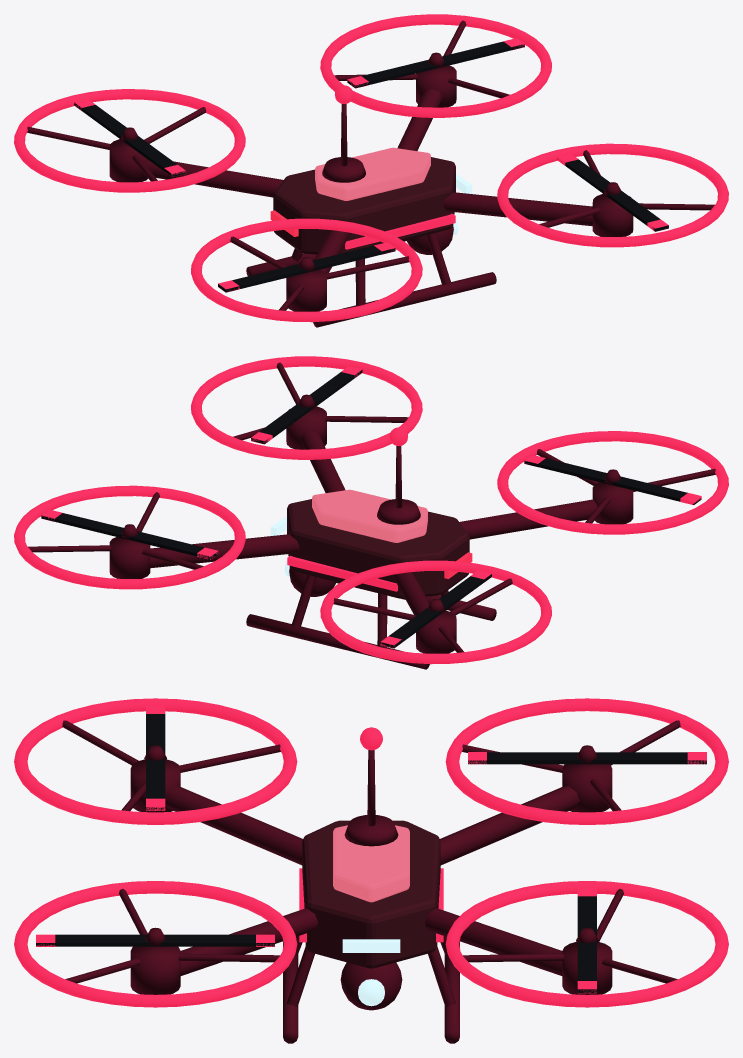
File: legacy_drone.glb
3 renders of one model, top to bottom at view 1: azimuth 30°, elevation 25°; view 2: azimuth 150°, elevation 25°; view 3: azimuth 270°, elevation 25°, orthographic. The views are drawn at different scales.
Parts seen in each view (by area): view 1: PropGuards, Arms, Hull, Canopy, Skids, Blades_RR, Blades_FL, Blades_RL, Blades_FR, Antenna, LightStrips, Gimbal; view 2: PropGuards, Arms, Hull, Canopy, Skids, Blades_FL, Blades_RR, Blades_RL, Blades_FR, Antenna, LightStrips, Gimbal; view 3: PropGuards, Arms, Hull, Canopy, Skids, Blades_RL, Blades_FR, Antenna, Gimbal, Blades_FL, Blades_RR, Headlight (+1 smaller).
Boxes of the visible parts, left/top/right/bottom form: PropGuards: left=14, top=14, right=728, bottom=322; Arms: left=27, top=20, right=714, bottom=311; Hull: left=273, top=157, right=455, bottom=254; Canopy: left=315, top=147, right=430, bottom=200; Skids: left=246, top=233, right=496, bottom=327; Blades_RR: left=218, top=245, right=395, bottom=292; Blades_FL: left=347, top=41, right=524, bottom=88; Blades_RL: left=74, top=102, right=185, bottom=176; Blades_FR: left=557, top=159, right=668, bottom=231; Antenna: left=322, top=104, right=365, bottom=182; LightStrips: left=345, top=213, right=455, bottom=249; Gimbal: left=406, top=224, right=453, bottom=254; PropGuards: left=14, top=356, right=728, bottom=664; Arms: left=28, top=362, right=715, bottom=653; Hull: left=287, top=499, right=469, bottom=598; Canopy: left=312, top=489, right=427, bottom=542; Skids: left=246, top=575, right=496, bottom=669; Blades_FL: left=41, top=513, right=218, bottom=559; Blades_RR: left=524, top=458, right=701, bottom=504; Blades_RL: left=380, top=574, right=491, bottom=648; Blades_FR: left=251, top=369, right=362, bottom=444; Antenna: left=377, top=446, right=420, bottom=524; LightStrips: left=287, top=555, right=397, bottom=591; Gimbal: left=289, top=566, right=336, bottom=596; PropGuards: left=14, top=698, right=728, bottom=1007; Arms: left=62, top=720, right=680, bottom=994; Hull: left=302, top=820, right=440, bottom=968; Canopy: left=333, top=825, right=409, bottom=902; Skids: left=283, top=936, right=459, bottom=1043; Blades_RL: left=468, top=752, right=706, bottom=764; Blades_FR: left=36, top=934, right=274, bottom=946; Antenna: left=344, top=750, right=398, bottom=846; Gimbal: left=340, top=962, right=402, bottom=1010; Blades_FL: left=577, top=896, right=596, bottom=992; Blades_RR: left=146, top=714, right=165, bottom=810; Headlight: left=342, top=939, right=400, bottom=952.
Bounding box in the file's own units: 3.71 × 1.41 × 3.71.
